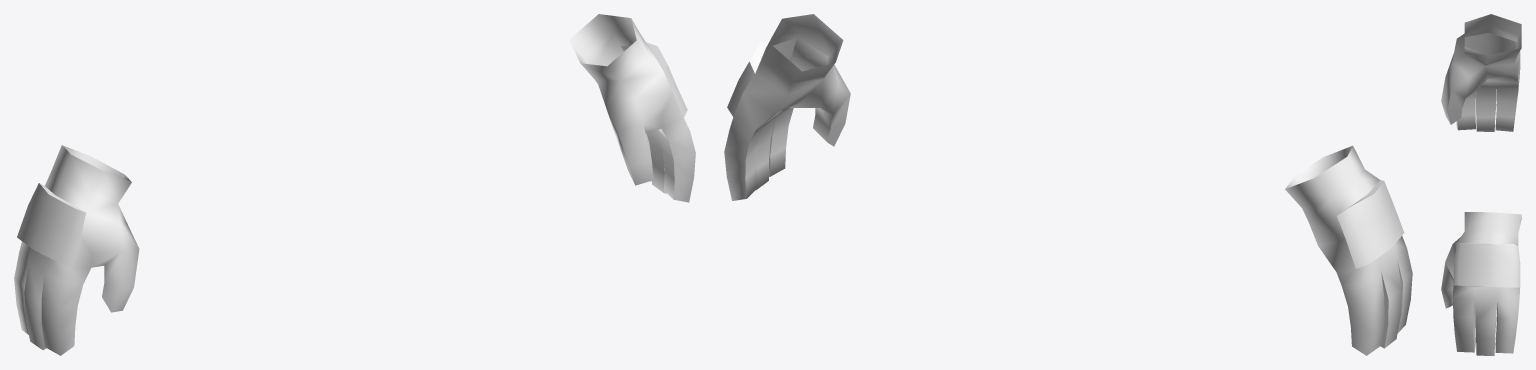
File: hum_heavy_a_c0899f3a.glb
The picture shows the model from 3 angles, left to right: view 1: azimuth 30°, elevation 25°; view 2: azimuth 150°, elevation 25°; view 3: azimuth 270°, elevation 25°; orthographic projection. The views are drawn at different scales.
Size of the model in its own units: 1.7 by 0.4493 by 0.2528.
Materials: 1 (1 with a texture image).
